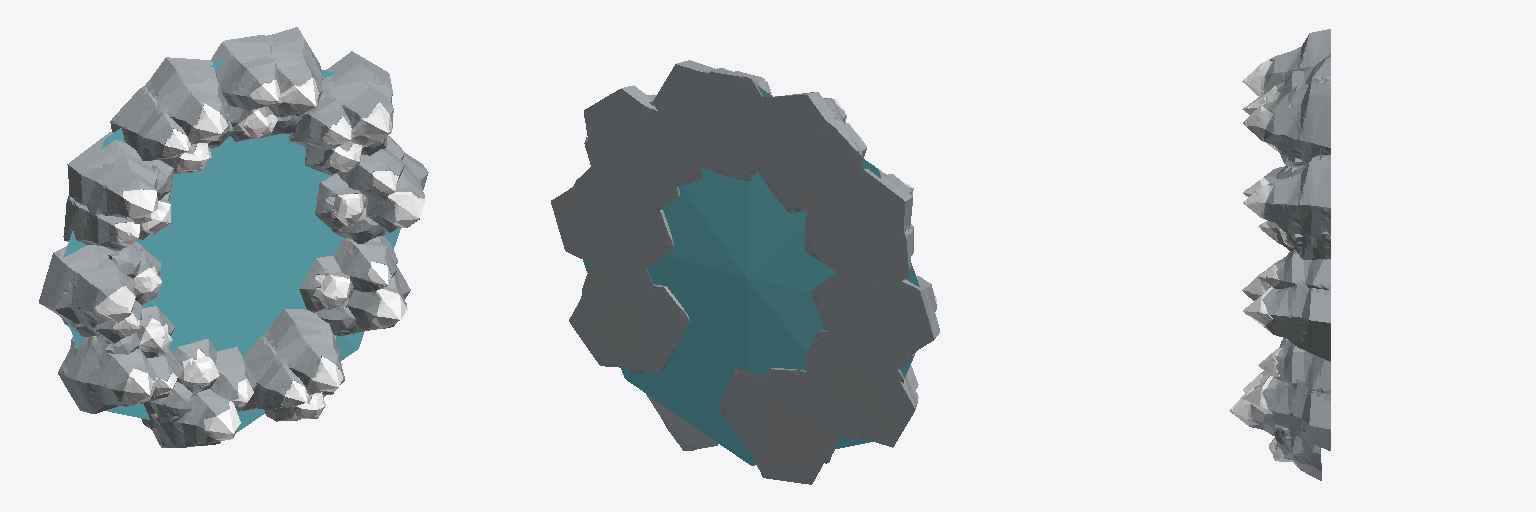
The model's file is tinker.obj.
3 views of the same model, side by side, from view 1: azimuth 30°, elevation 25°; view 2: azimuth 150°, elevation 25°; view 3: azimuth 270°, elevation 25° (orthographic).
Parts seen in each view (by area): view 1: obj_0; view 2: obj_0; view 3: obj_0.
Part boxes in pixels (bbox=[...]): obj_0: bbox=[39, 27, 428, 447]; obj_0: bbox=[551, 60, 939, 484]; obj_0: bbox=[1229, 29, 1330, 480].
Size of the model in its own units: 299 by 295 by 68.82.